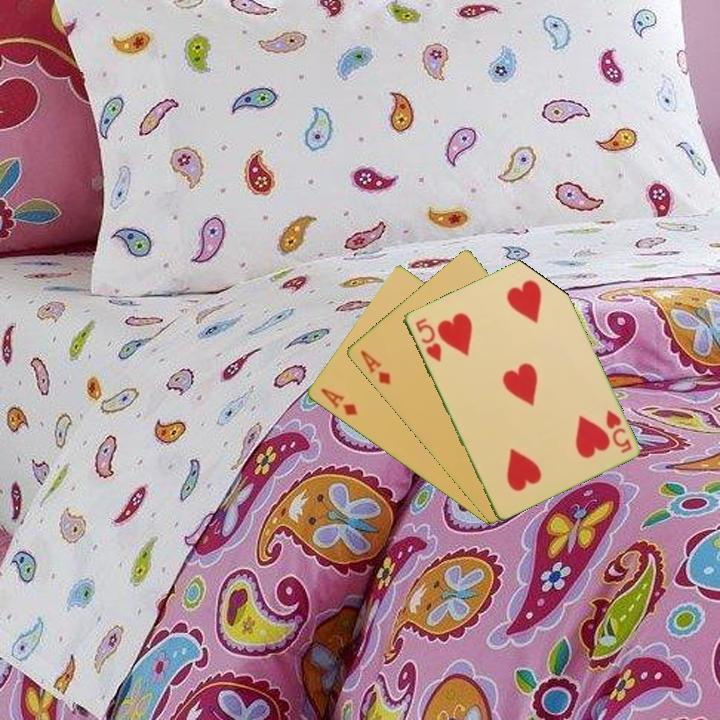5h: (411, 314, 444, 365), (602, 406, 634, 456)
Ad: (356, 346, 393, 388), (317, 384, 360, 419)
